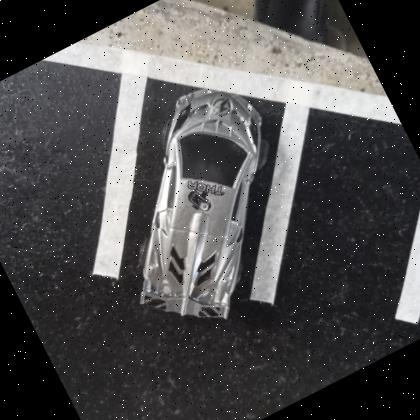Car: (140, 89, 264, 321)
